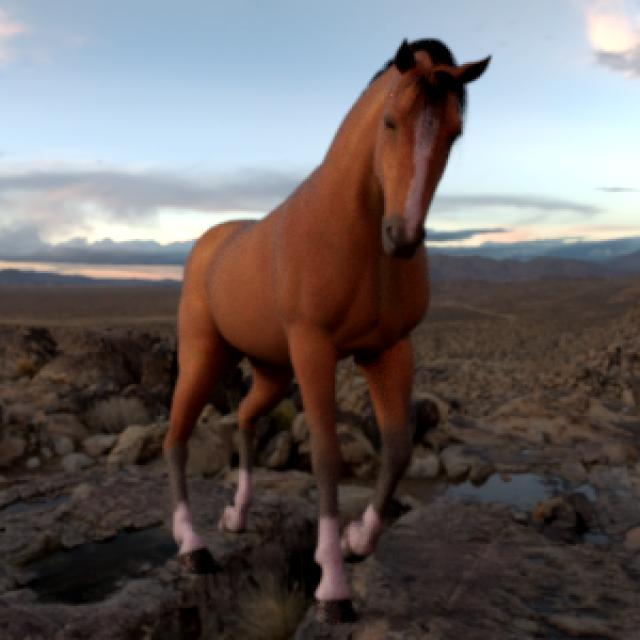horse: (164, 40, 490, 622)
